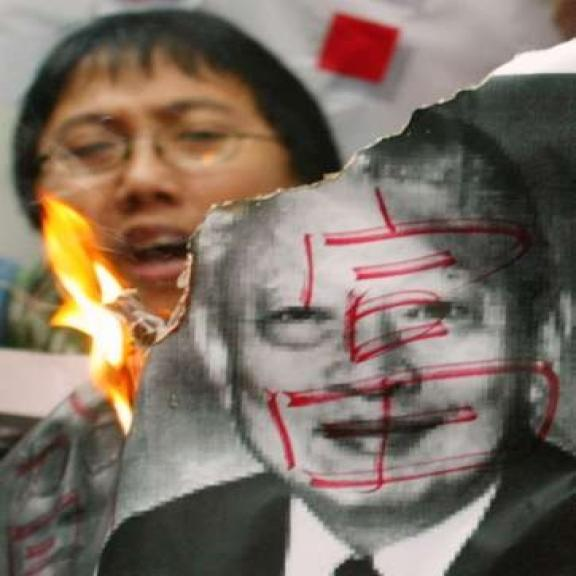face: (205, 212, 563, 513), (37, 63, 317, 312)
